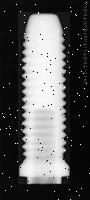Zimmer: (18, 12, 70, 184)
